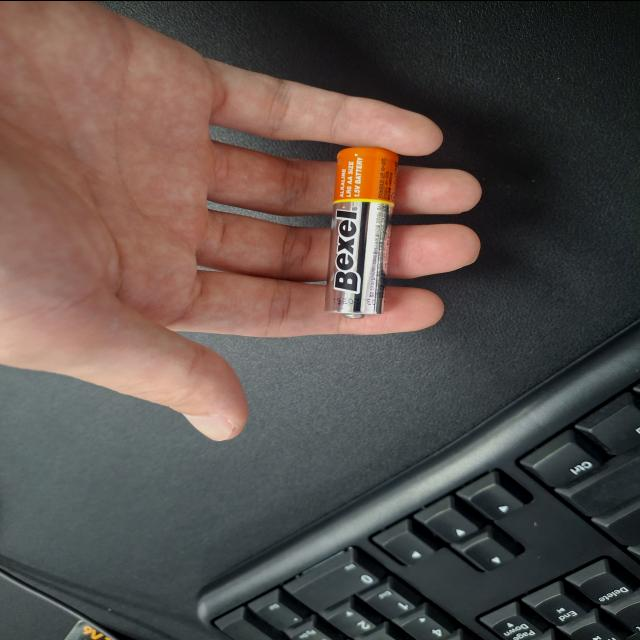AA: (433, 404, 640, 458)
